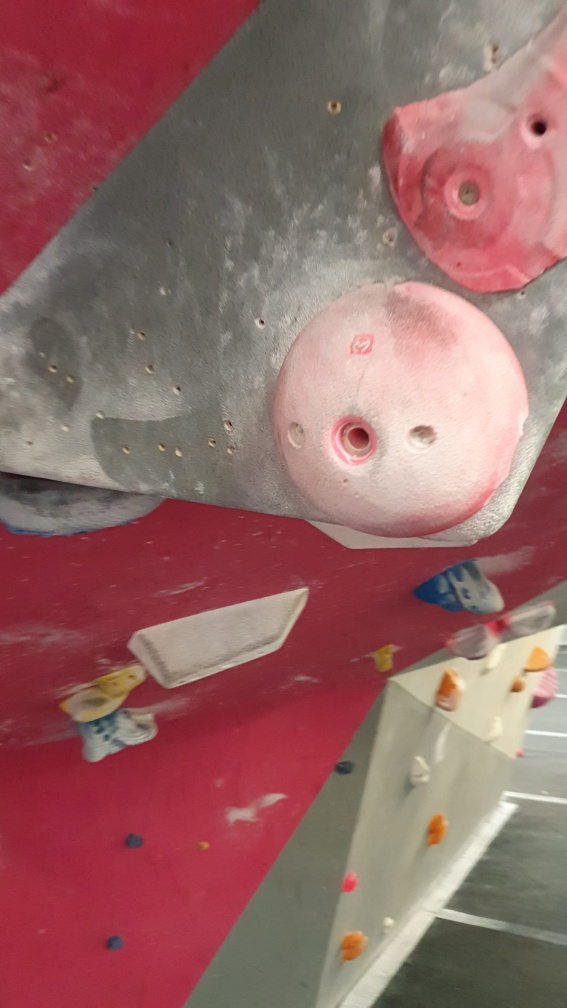Jug: (407, 554, 511, 620)
Pinch: (127, 590, 316, 690)
Sloper: (266, 278, 530, 541)
